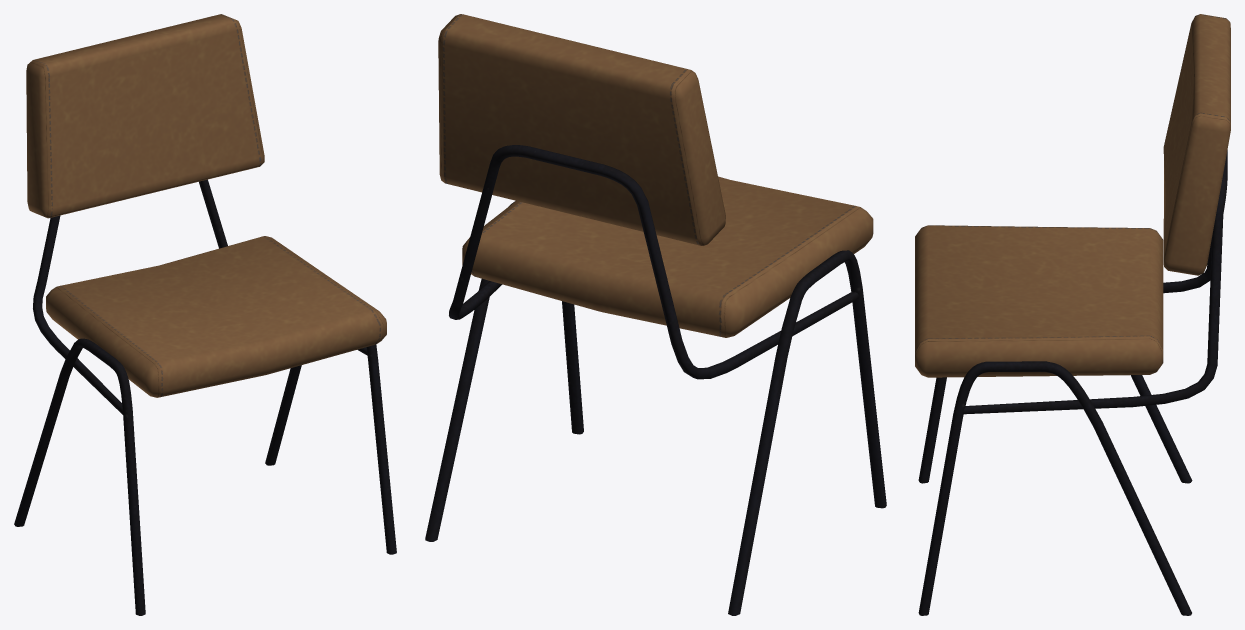
File: chair.glb
3 views of the same model, side by side, from view 1: azimuth 30°, elevation 25°; view 2: azimuth 150°, elevation 25°; view 3: azimuth 270°, elevation 25° (orthographic). The views are drawn at different scales.
Bounding box in the file's own units: 0.6133 × 1.01 × 0.5976.
Materials: 1 (1 with a texture image).
